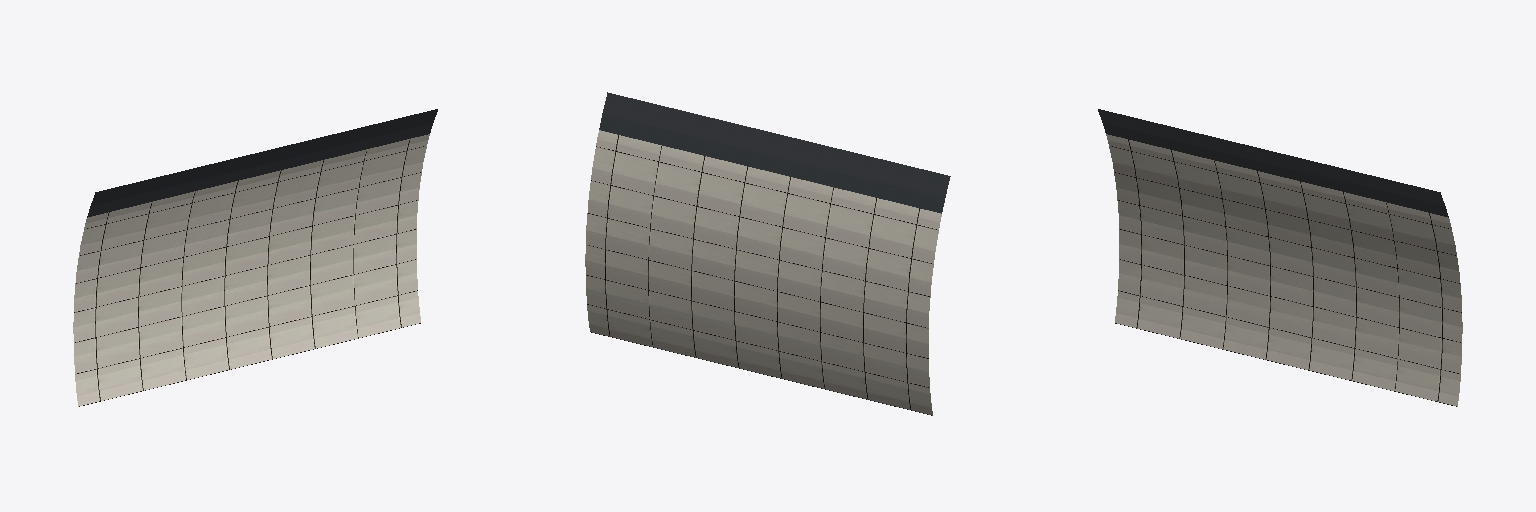
The picture shows the model from 3 angles: view 1: azimuth 30°, elevation 25°; view 2: azimuth 150°, elevation 25°; view 3: azimuth 330°, elevation 25°; orthographic projection.
Visible parts, largest first — view 1: Circle.001; view 2: Circle.001; view 3: Circle.001.
Boxes of the visible parts, box(x1,y1,x2,y2) form: Circle.001: box(73, 109, 437, 406); Circle.001: box(585, 92, 950, 415); Circle.001: box(1098, 109, 1462, 406).
Bounding box in the file's own units: 4.74 × 3 × 0.5297.
1 materials, 1 textured.